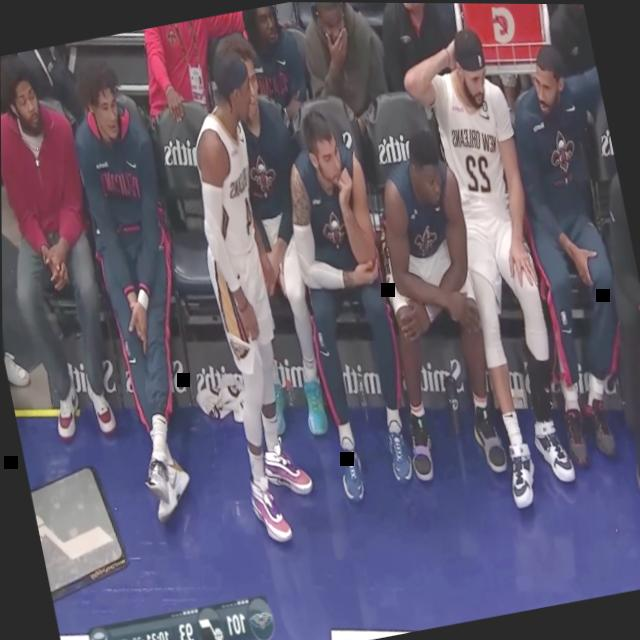Period: (114, 635, 132, 640)
Shot Clock: (130, 634, 145, 640)
Team Points: (225, 609, 246, 639), (176, 618, 194, 640)
Time Remaining: (144, 624, 171, 640)
